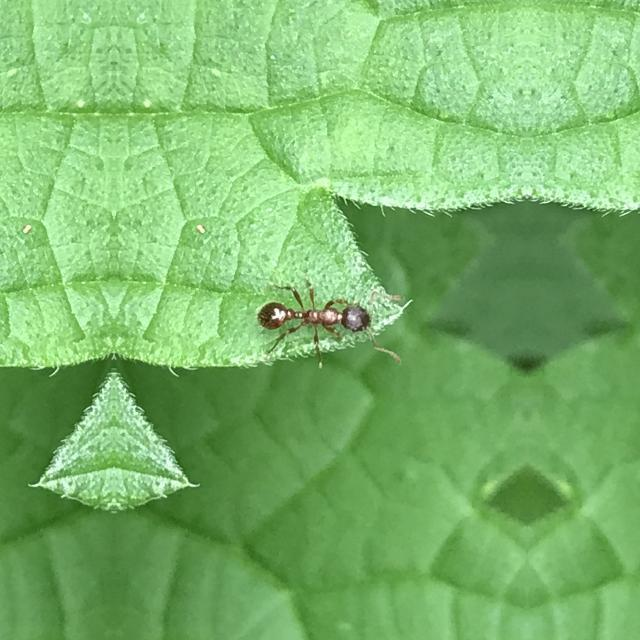Myrmica: (264, 266, 396, 378)
